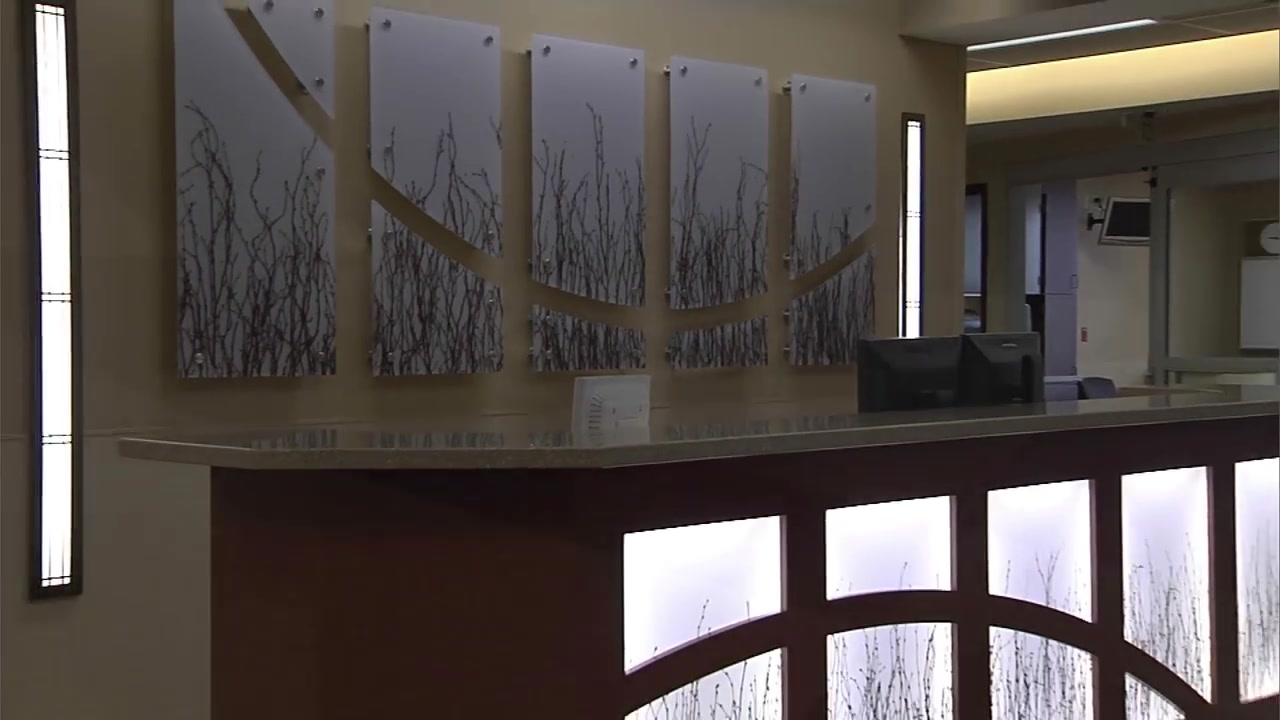TV: (1101, 198, 1150, 247)
chair: (1081, 372, 1117, 400)
computer: (855, 337, 965, 410), (571, 373, 655, 451), (962, 332, 1046, 402)
counter: (111, 384, 1280, 720)
countertop: (113, 390, 1280, 471)
handle: (1069, 362, 1080, 377), (1071, 274, 1077, 289)
